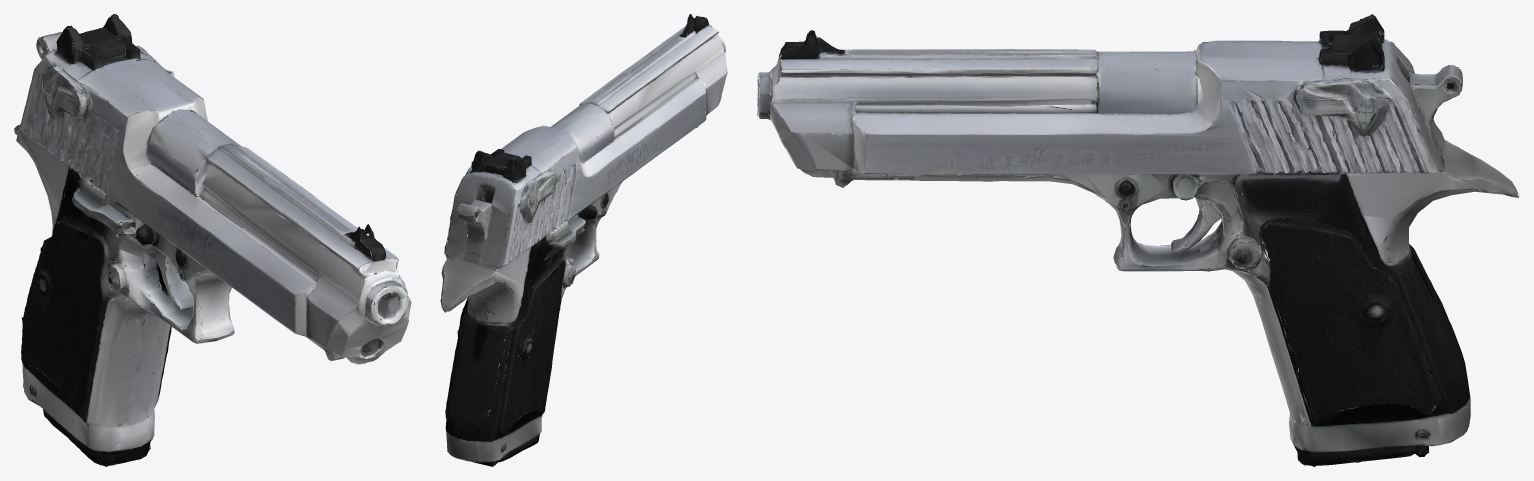
Rendered from deagle.glb.
3 views of the same model, side by side, from view 1: azimuth 30°, elevation 25°; view 2: azimuth 150°, elevation 25°; view 3: azimuth 270°, elevation 25° (orthographic). The views are drawn at different scales.
Visible parts, largest first — view 1: deagle; view 2: deagle; view 3: deagle.
Part boxes in pixels (x1,y1,x2,y2): deagle: [14, 14, 411, 466]; deagle: [440, 14, 727, 466]; deagle: [756, 14, 1519, 466].
Size of the model in its own units: 0.0443 by 0.1671 by 0.27.
Materials: 1 (1 with a texture image).
